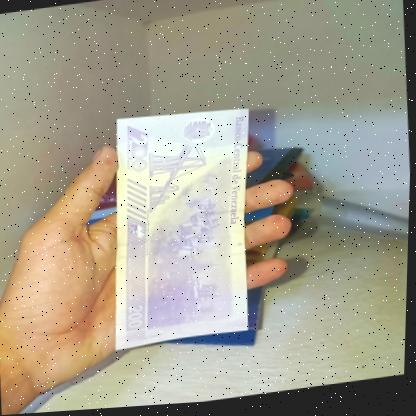two_hundred-back-vef: (101, 103, 266, 354)
